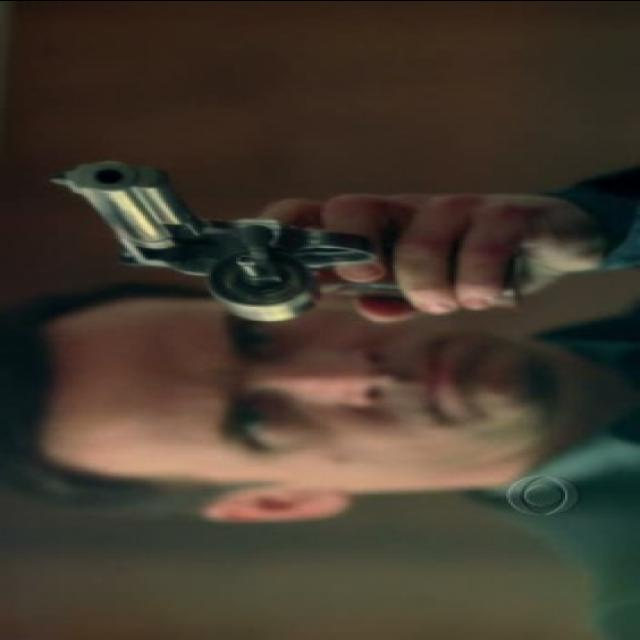weapons: (31, 144, 442, 330)
